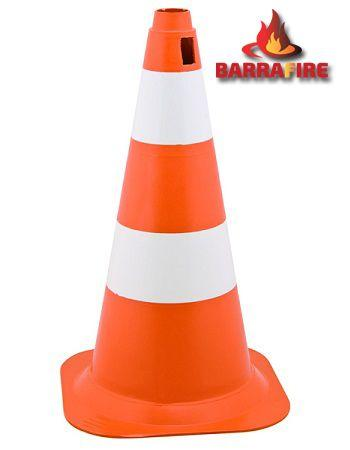traffic_cone: (59, 7, 291, 439)
